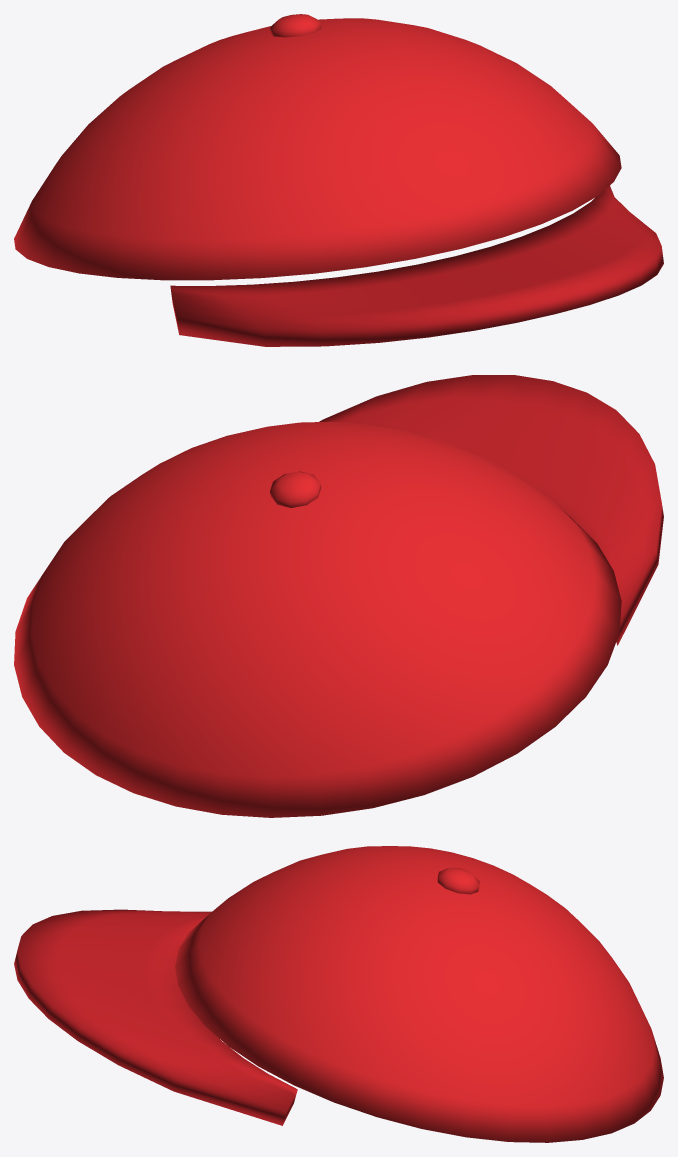
The model's file is cap_basic.glb.
The picture shows the model from 3 angles, top to bottom: view 1: azimuth 30°, elevation 25°; view 2: azimuth 150°, elevation 25°; view 3: azimuth 270°, elevation 25°; orthographic projection. The views are drawn at different scales.
Parts seen in each view (by area): view 1: cap_basic; view 2: cap_basic; view 3: cap_basic.
Boxes of the visible parts, x1,y1,x2,y2 form: cap_basic: [14, 14, 663, 346]; cap_basic: [14, 375, 663, 817]; cap_basic: [14, 846, 663, 1142].
Bounding box in the file's own units: 0.437 × 0.1876 × 0.5343.
